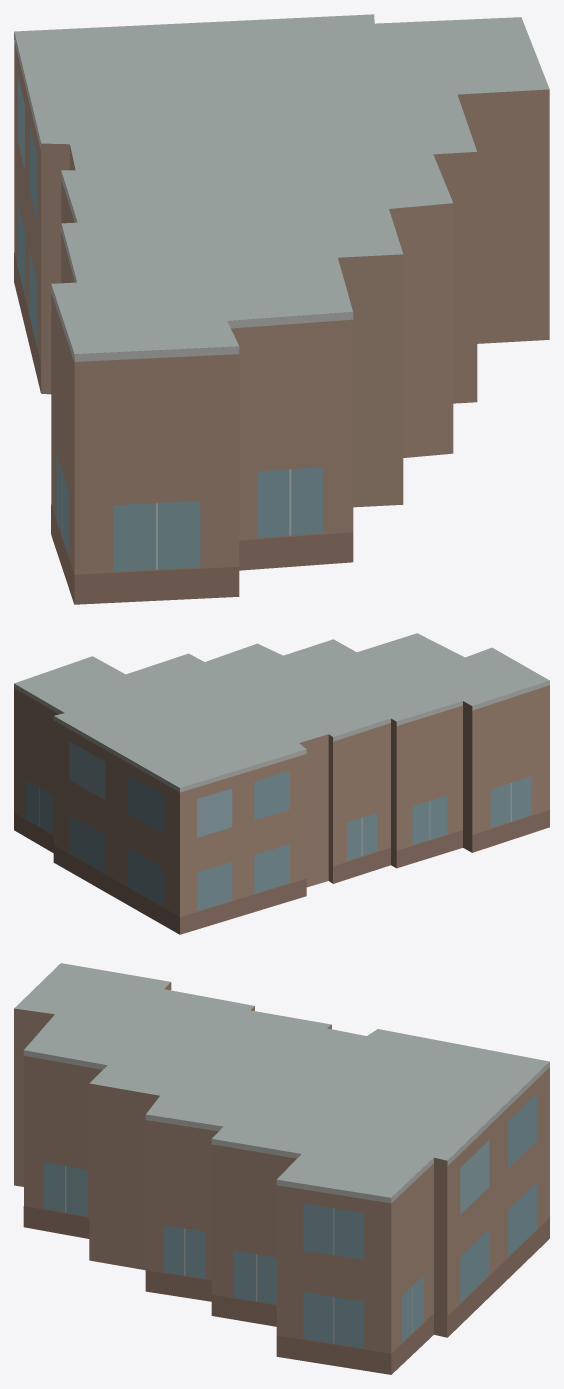
File: survey-upis-32525797.glb
3 views of the same model, one above another, from view 1: azimuth 30°, elevation 25°; view 2: azimuth 150°, elevation 25°; view 3: azimuth 270°, elevation 25° (orthographic). The views are drawn at different scales.
Visible parts, largest first — view 1: survey-upis-32525797.tmp; view 2: survey-upis-32525797.tmp; view 3: survey-upis-32525797.tmp.
Boxes of the visible parts, bbox=[...] form: survey-upis-32525797.tmp: bbox=[14, 14, 549, 604]; survey-upis-32525797.tmp: bbox=[14, 633, 549, 934]; survey-upis-32525797.tmp: bbox=[14, 963, 549, 1374].
Size of the model in its own units: 22.19 by 7.8 by 21.4.
